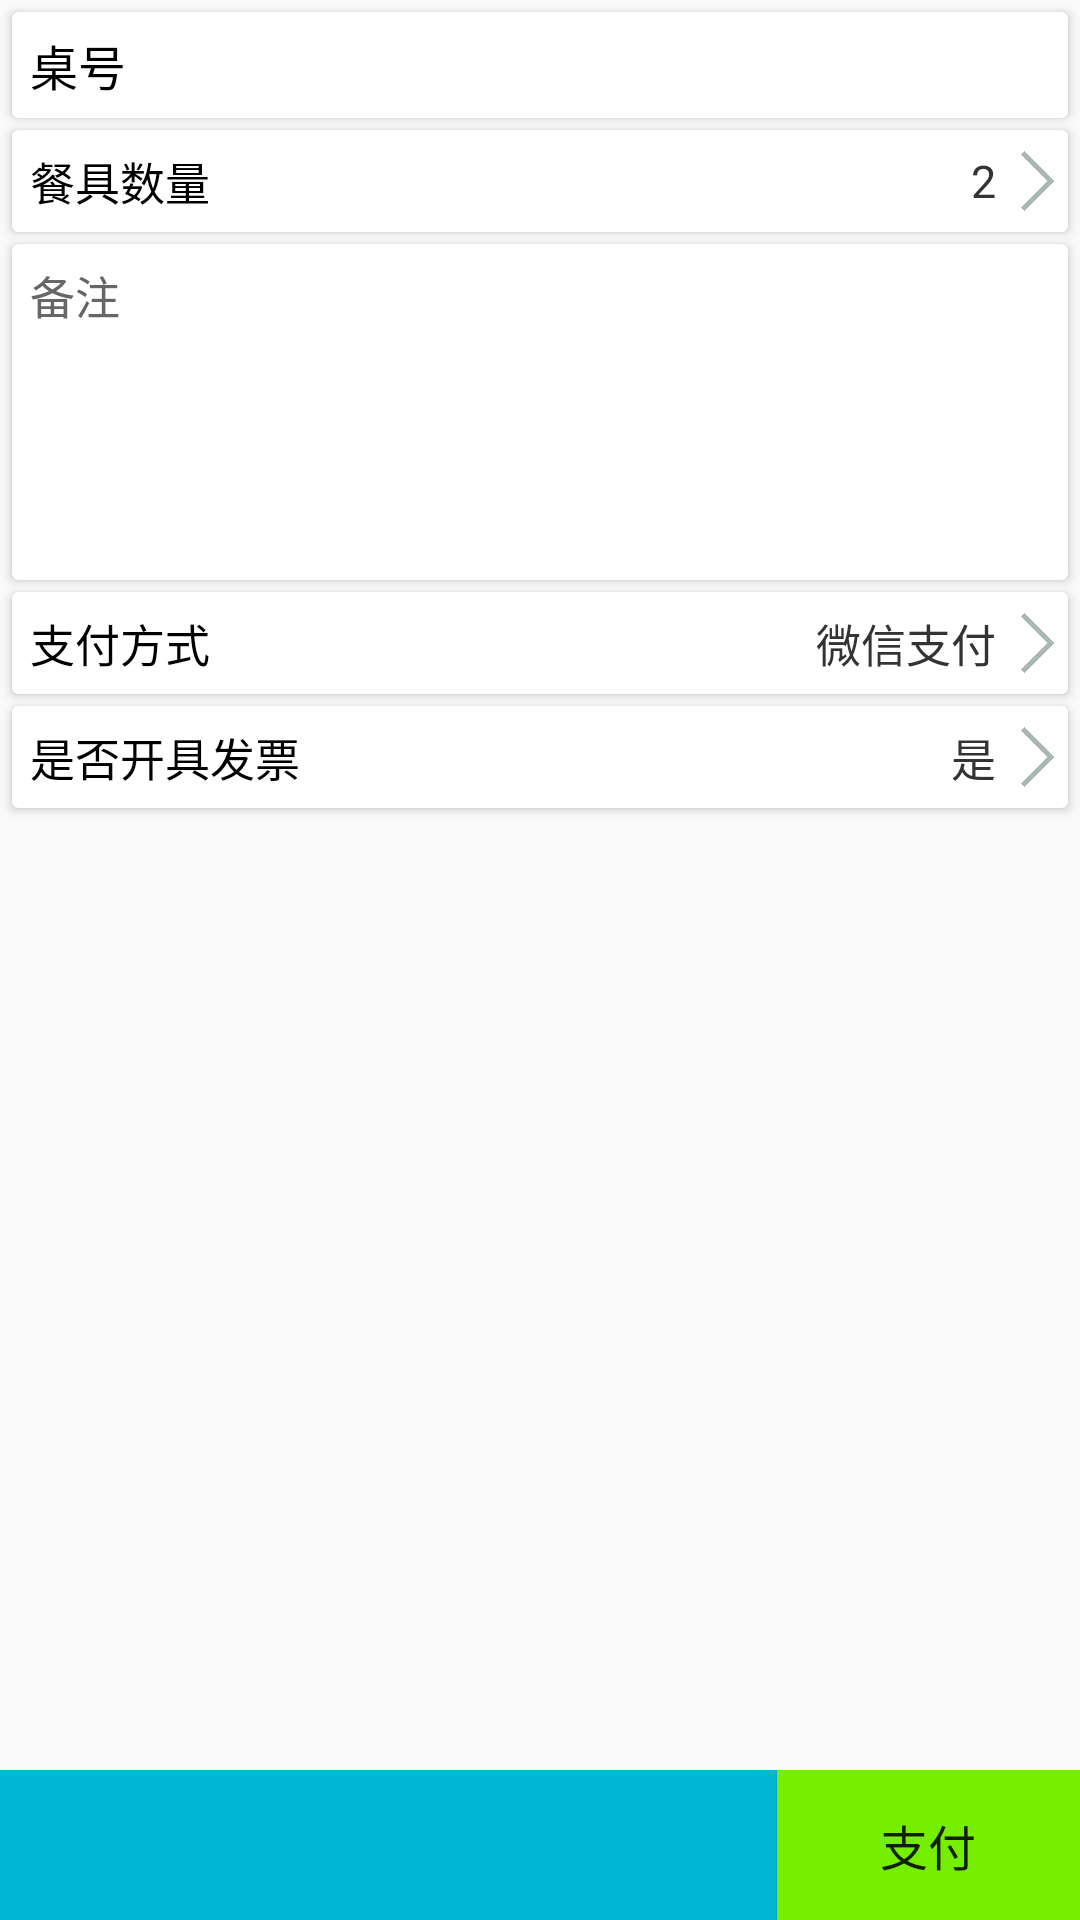

Icons on this 1080px×1920px Android screen, each with its box as [x1=x1, y1=y1, x2=x2, y2=y2]:
arrow right: [x1=1021, y1=151, x2=1054, y2=211], [x1=1021, y1=613, x2=1054, y2=673], [x1=1021, y1=727, x2=1054, y2=787]
